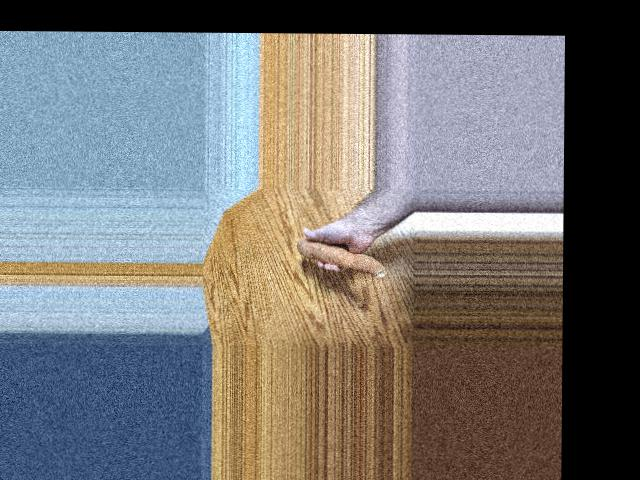sweet_potato: (295, 239, 386, 264)
